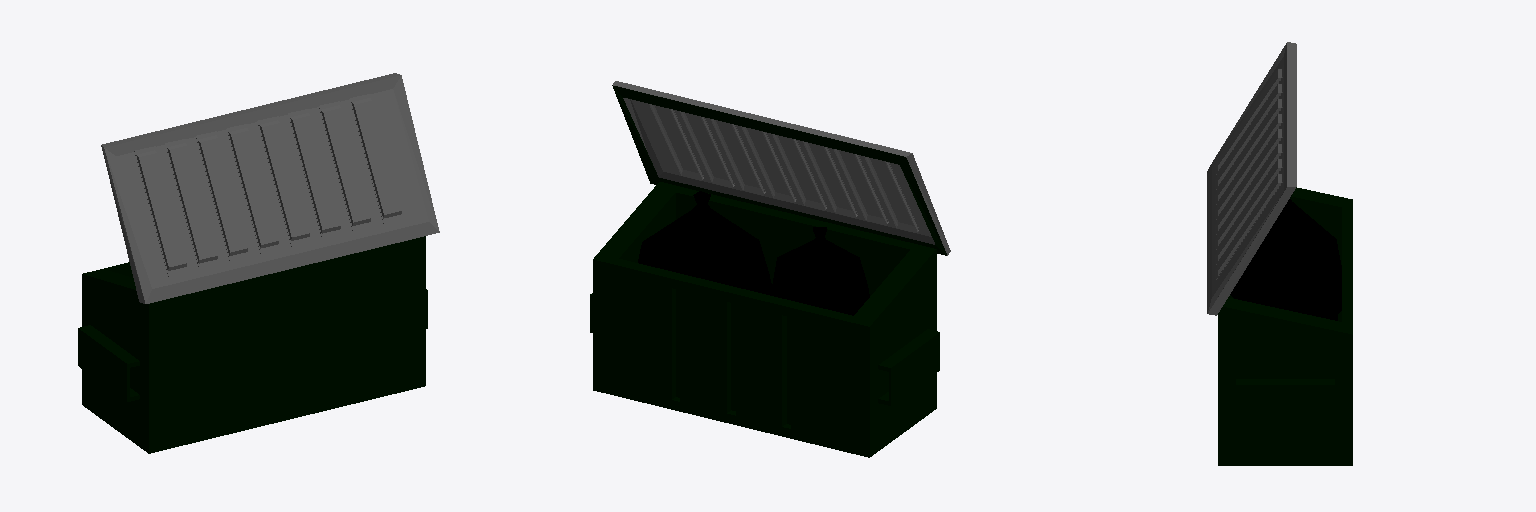
File: open-dumpster.obj
3 views of the same model, side by side, from view 1: azimuth 30°, elevation 25°; view 2: azimuth 150°, elevation 25°; view 3: azimuth 270°, elevation 25° (orthographic).
Parts seen in each view (by area): view 1: Cube.042_Cube.066, Cube.043_Cube.067, Plane.022_Plane.039, Cube.040_Cube.064; view 2: Cube.042_Cube.066, Cube.043_Cube.067, Plane.022_Plane.039, TrashBag.001_Cube.068, TrashBag.002_Cube.069, Cube.040_Cube.064; view 3: Cube.042_Cube.066, Plane.022_Plane.039, Cube.043_Cube.067, TrashBag.001_Cube.068, Cube.041_Cube.065, TrashBag.002_Cube.069.
Boxes of the visible parts, <box> form: Cube.042_Cube.066: <box>82,236,425,453</box>; Cube.043_Cube.067: <box>101,73,439,303</box>; Plane.022_Plane.039: <box>134,94,404,276</box>; Cube.040_Cube.064: <box>78,325,139,401</box>; Cube.042_Cube.066: <box>593,182,936,457</box>; Cube.043_Cube.067: <box>612,81,950,255</box>; Plane.022_Plane.039: <box>649,104,918,232</box>; TrashBag.001_Cube.068: <box>638,191,771,294</box>; TrashBag.002_Cube.069: <box>770,227,869,315</box>; Cube.040_Cube.064: <box>878,329,939,405</box>; Cube.042_Cube.066: <box>1218,187,1352,465</box>; Plane.022_Plane.039: <box>1215,65,1283,279</box>; Cube.043_Cube.067: <box>1207,42,1296,315</box>; TrashBag.001_Cube.068: <box>1242,235,1337,320</box>; Cube.041_Cube.065: <box>1236,379,1334,422</box>; TrashBag.002_Cube.069: <box>1230,199,1341,314</box>.
Bounding box in the file's own units: 5.82 × 5.24 × 2.43.